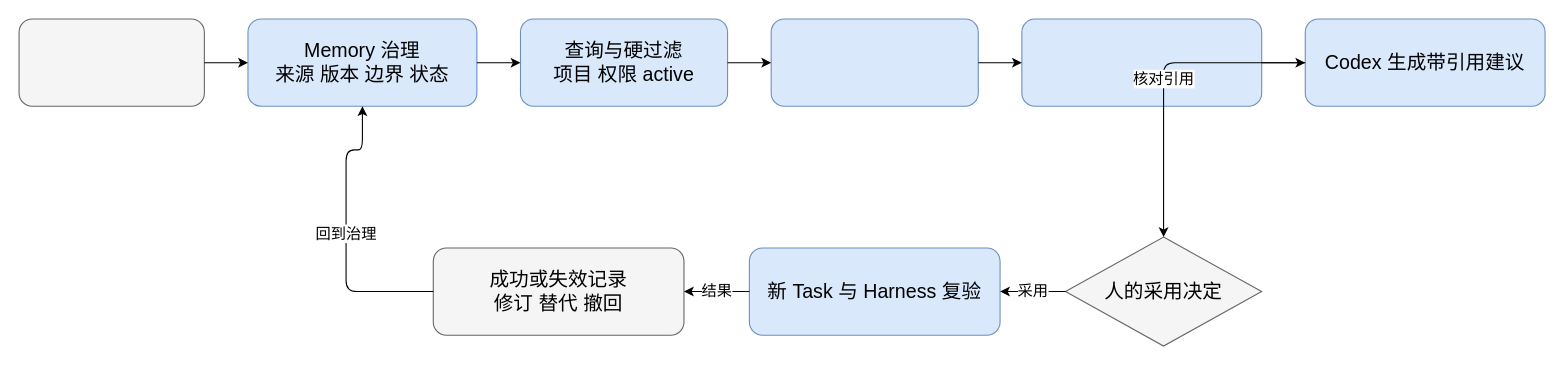
The diagram is 1564 pixels wide and 365 high, and some of its shapes have lost their labels. The centre of each missing label's shape, as x and y in pixels:
"反馈与交付证据" belongs at [111,62].
"带引用上下文快照 memory_id@version" belongs at [1141,62].
"检索排序与 Top-k" belongs at [874,62].
